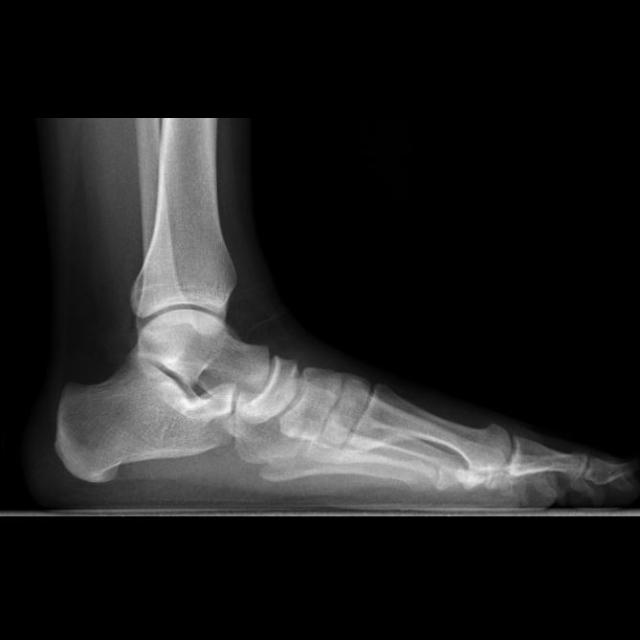a: (57, 360, 235, 482)
b: (247, 354, 298, 422)
c: (352, 383, 514, 474)
